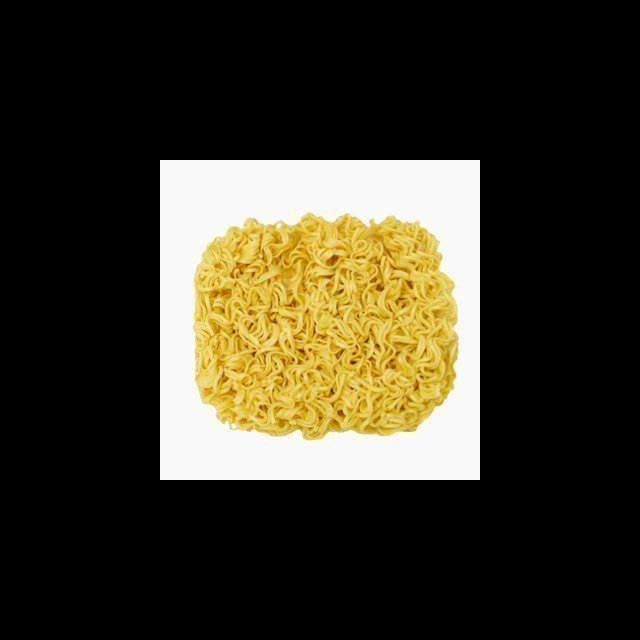food_waste: (183, 227, 480, 441)
